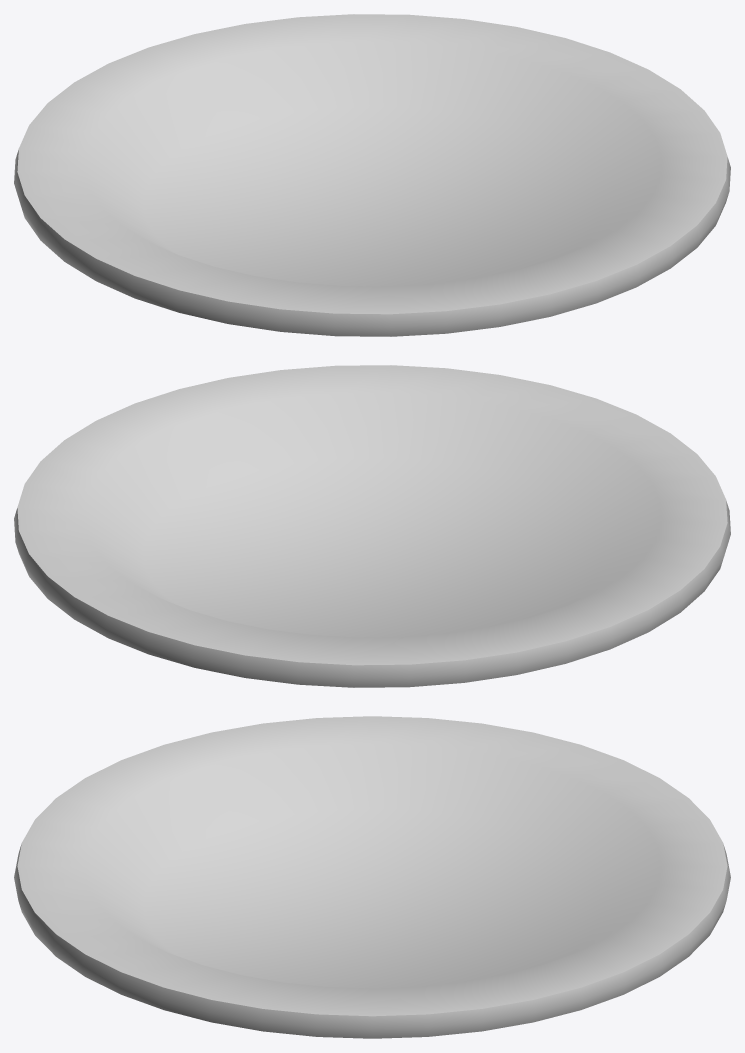
The model's file is Dit.FBX.
3 views of the same model, one above another, from view 1: azimuth 30°, elevation 25°; view 2: azimuth 150°, elevation 25°; view 3: azimuth 270°, elevation 25° (orthographic).
Parts seen in each view (by area): view 1: disk 18; view 2: disk 18; view 3: disk 18.
Boxes of the visible parts, x1=… form: disk 18: x1=14, y1=14, x2=730, y2=336; disk 18: x1=14, y1=365, x2=730, y2=687; disk 18: x1=14, y1=716, x2=730, y2=1038.
Bounding box in the file's own units: 0.9508 × 0.0572 × 0.9508.
